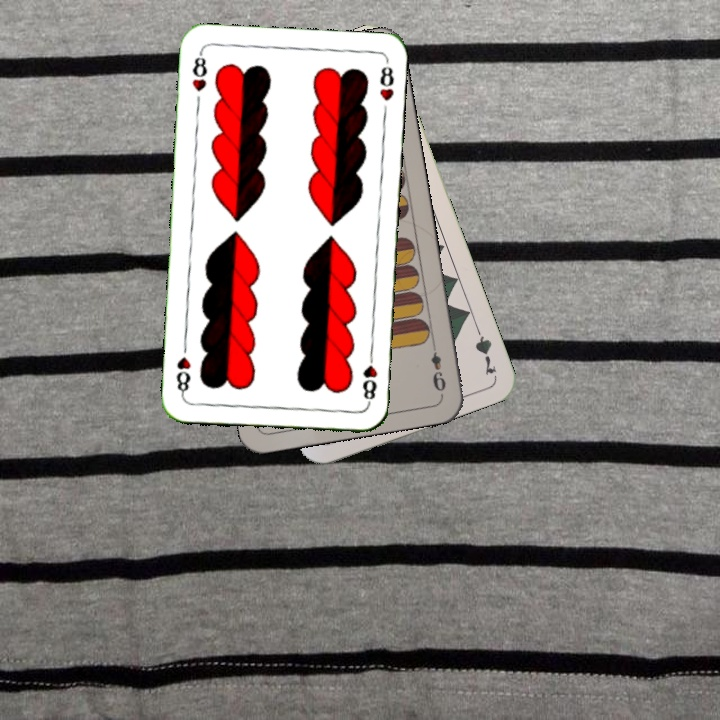E9: (427, 338, 449, 397)
G7: (470, 319, 499, 378)
H8: (359, 347, 380, 407), (188, 48, 210, 94)
